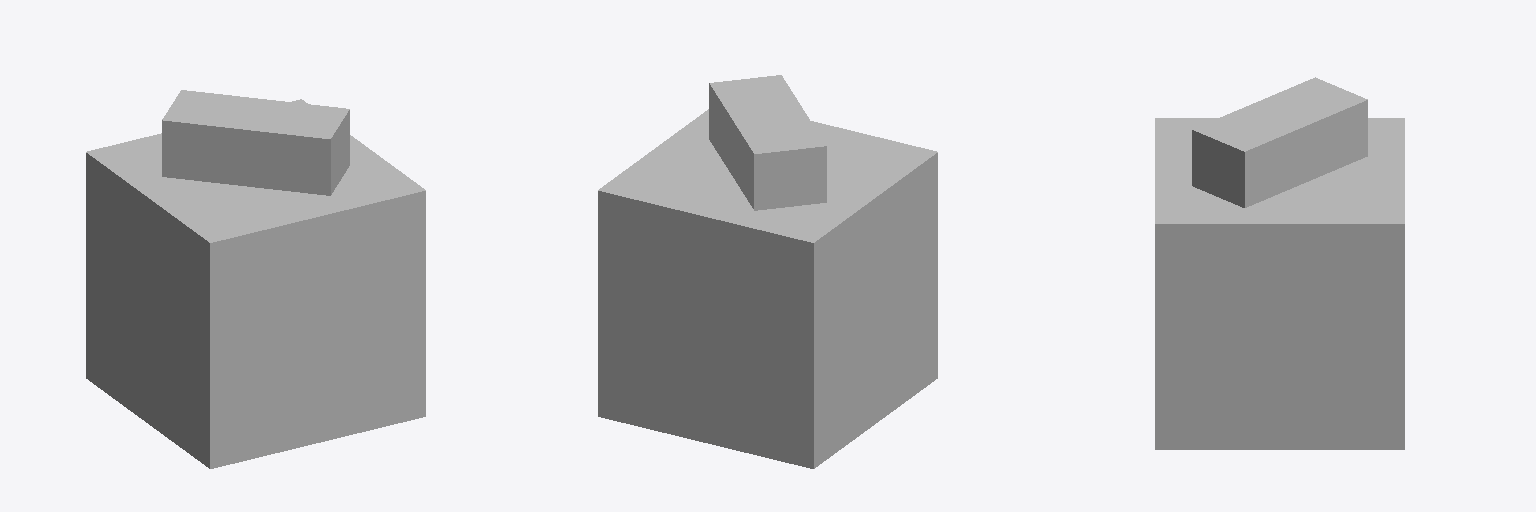
File: Line_cube_cap_rotated45.obj
3 renders of one model, left to right at view 1: azimuth 30°, elevation 25°; view 2: azimuth 150°, elevation 25°; view 3: azimuth 270°, elevation 25°, orthographic.
Parts seen in each view (by area): view 1: Cap_Cube.006; view 2: Cap_Cube.006; view 3: Cap_Cube.006.
Part boxes in pixels (x1,y1,x2,y2): Cap_Cube.006: (86,90,425,468); Cap_Cube.006: (598,75,937,468); Cap_Cube.006: (1155,77,1404,449).
Size of the model in its own units: 0.08 by 0.1 by 0.08.